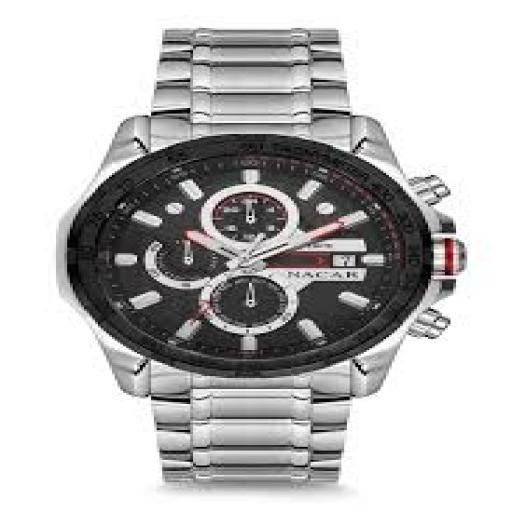KolSaati: (52, 10, 472, 512)
